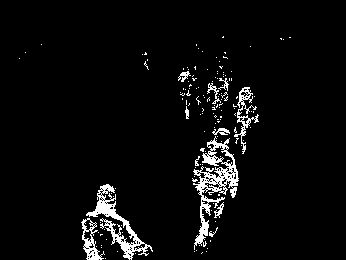person: (190, 127, 242, 257), (79, 183, 152, 260), (232, 84, 260, 154), (206, 63, 233, 126), (177, 64, 199, 121)
